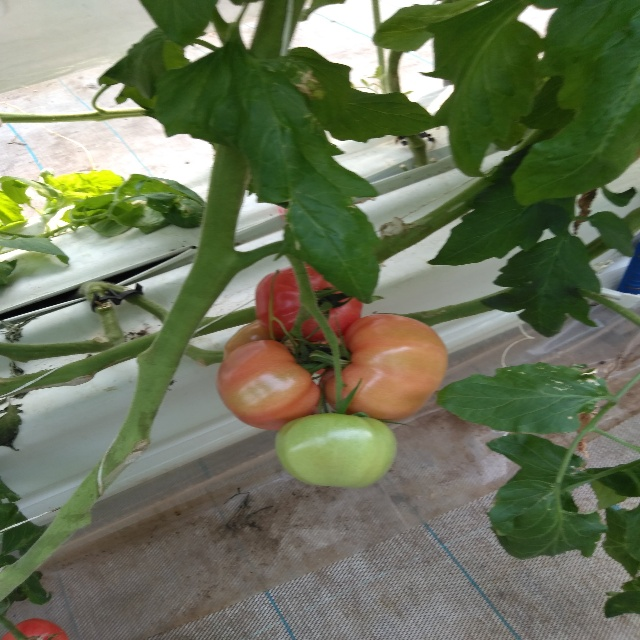b_fully_ripened: (254, 262, 363, 343), (1, 618, 69, 640)
b_green: (275, 413, 396, 489)
b_half_ripened: (318, 313, 449, 425), (216, 339, 321, 430), (222, 317, 325, 375)
